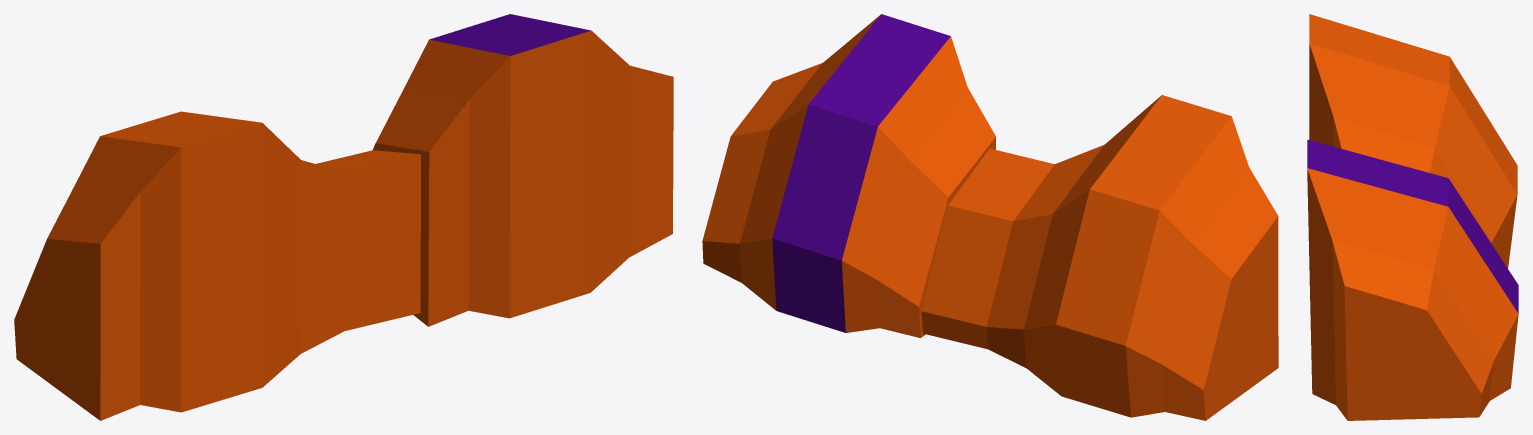
3 views of the same model, side by side, from view 1: azimuth 30°, elevation 25°; view 2: azimuth 150°, elevation 25°; view 3: azimuth 270°, elevation 25° (orthographic). The views are drawn at different scales.
Visible parts, largest first — view 1: Cube; view 2: Cube; view 3: Cube.
Boxes of the visible parts, x1=… form: Cube: x1=14, y1=14, x2=673, y2=420; Cube: x1=702, y1=14, x2=1278, y2=420; Cube: x1=1307, y1=14, x2=1518, y2=420.
Size of what is drawn, in the model's own units: 460 by 215 by 170.
